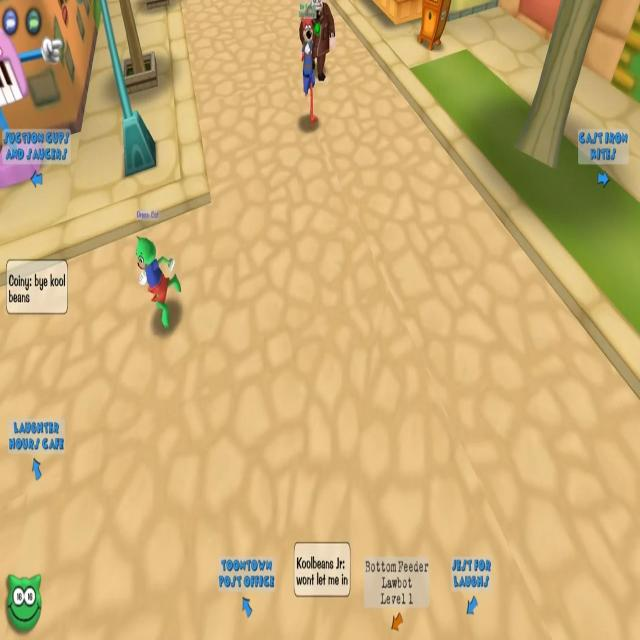flunky: (298, 0, 337, 84)
